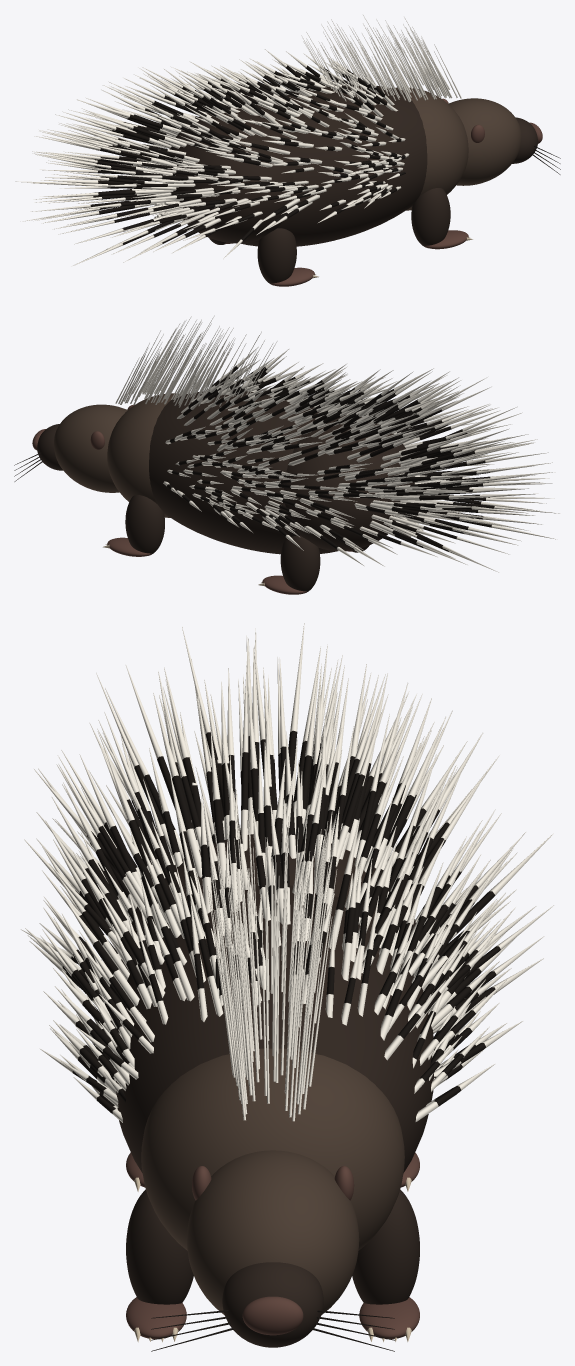
File: landak.glb
3 views of the same model, one above another, from view 1: azimuth 30°, elevation 25°; view 2: azimuth 150°, elevation 25°; view 3: azimuth 270°, elevation 25° (orthographic). The views are drawn at different scales.
Parts seen in each view (by area): view 1: quills_white, quills_black_bands, body, rump, head, shoulders, front_leg_R, hind_leg_R, snout, front_foot_R, hind_foot_R; view 2: quills_white, quills_black_bands, body, rump, head, shoulders, front_leg_L, hind_leg_L, snout, hind_foot_L, front_foot_L; view 3: quills_white, quills_black_bands, shoulders, body, head, snout, front_leg_L, front_leg_R, rump, nose, front_foot_R, front_foot_L.
Boxes of the visible parts, box(x1,y1,x2,y2) form: quills_white: box(15, 15, 461, 266); quills_black_bands: box(82, 65, 405, 245); body: box(241, 85, 427, 246); rump: box(164, 108, 293, 243); head: box(448, 98, 521, 185); shoulders: box(395, 87, 468, 210); front_leg_R: box(411, 188, 450, 247); hind_leg_R: box(257, 228, 296, 285); snout: box(512, 117, 537, 163); front_foot_R: box(424, 230, 468, 249); hind_foot_R: box(271, 267, 314, 286); quills_white: box(115, 315, 560, 572); quills_black_bands: box(167, 365, 494, 551); body: box(149, 390, 337, 554); rump: box(284, 414, 414, 550); head: box(54, 404, 127, 492); shoulders: box(107, 393, 178, 517); front_leg_L: box(125, 495, 164, 555); hind_leg_L: box(280, 535, 320, 593); snout: box(37, 424, 62, 470); hind_foot_L: box(262, 575, 306, 594); front_foot_L: box(107, 537, 151, 556); quills_white: box(21, 623, 553, 1122); quills_black_bands: box(62, 730, 500, 1113); shoulders: box(141, 1048, 404, 1250); body: box(116, 885, 433, 1173); head: box(187, 1150, 359, 1314); snout: box(222, 1262, 323, 1347); front_leg_L: box(352, 1189, 419, 1304); front_leg_R: box(126, 1189, 193, 1304); rump: box(121, 833, 415, 973); nose: box(242, 1296, 303, 1335); front_foot_R: box(126, 1297, 186, 1339); front_foot_L: box(359, 1297, 419, 1339).
Size of the model in its own units: 1.14 by 0.4649 by 0.5261.
